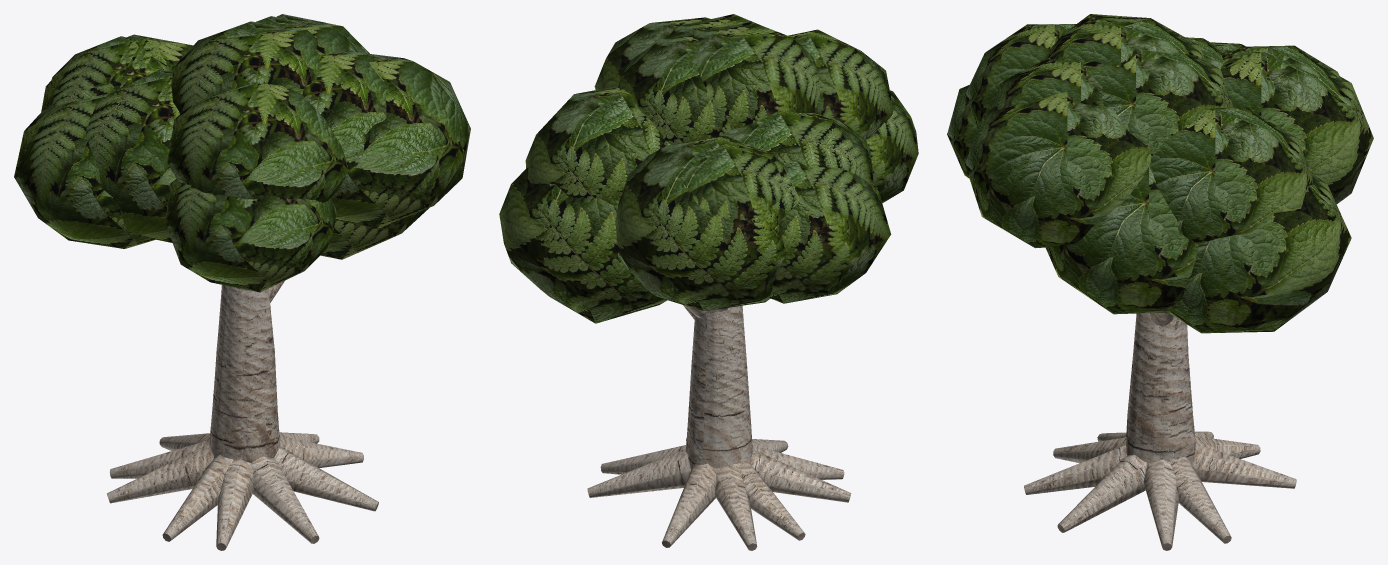
The model's file is ancient-tree-roots-v01.glb.
The picture shows the model from 3 angles, left to right: view 1: azimuth 30°, elevation 25°; view 2: azimuth 150°, elevation 25°; view 3: azimuth 270°, elevation 25°; orthographic projection. The views are drawn at different scales.
Visible parts, largest first — view 1: ancient-tree; view 2: ancient-tree; view 3: ancient-tree.
Part boxes in pixels (x1,y1,x2,y2): ancient-tree: (14,14,470,550); ancient-tree: (499,14,918,550); ancient-tree: (947,14,1373,550).
Size of the model in its own units: 6.75 by 8.33 by 6.92.
2 materials, 2 textured.
